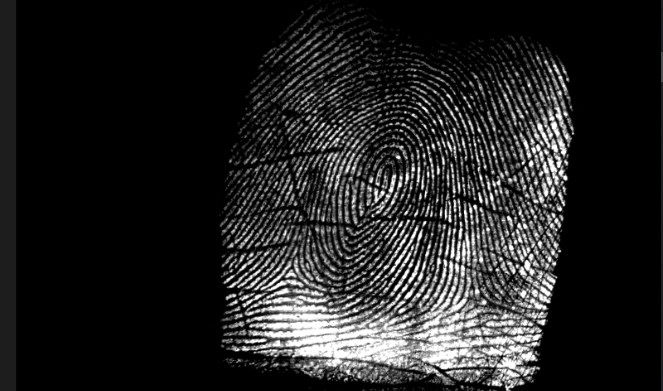deltas: (266, 241, 318, 299), (450, 267, 497, 320)
nucleo: (359, 151, 408, 213)
